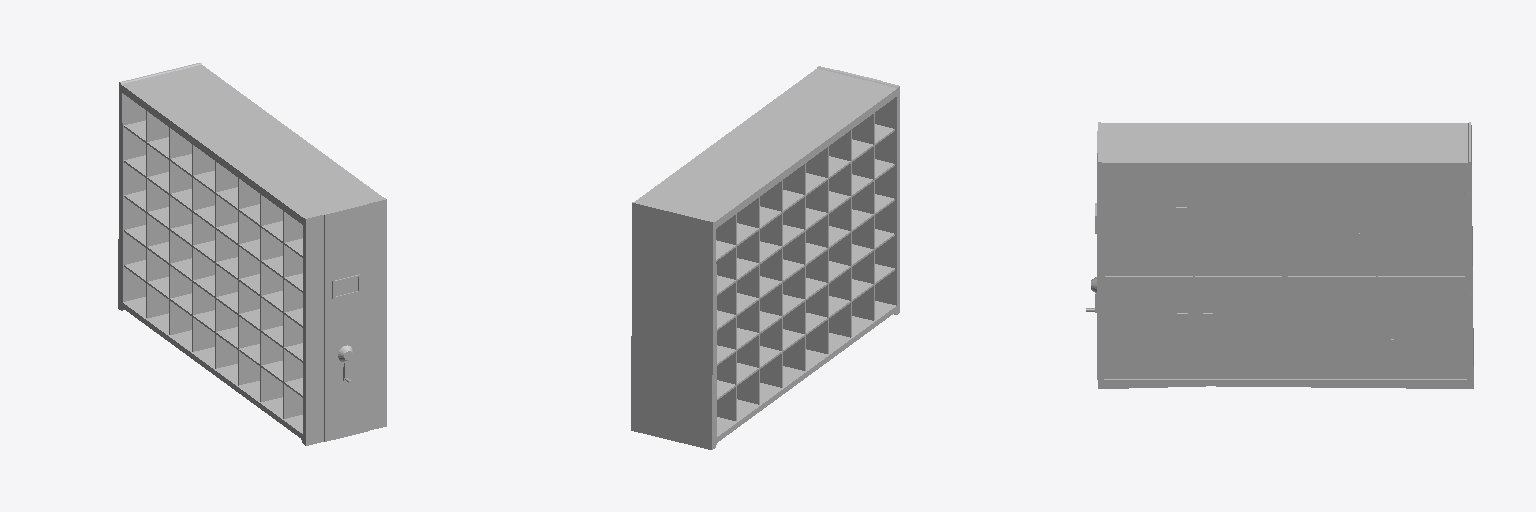
Rendered from mjjright6-8.obj.
3 views of the same model, side by side, from view 1: azimuth 30°, elevation 25°; view 2: azimuth 150°, elevation 25°; view 3: azimuth 270°, elevation 25° (orthographic).
Visible parts, largest first — view 1: mjj, Mesh02; view 2: mjj; view 3: mjj.
Boxes of the visible parts, x1,y1,x2,y2 form: mjj: [118, 63, 386, 445]; Mesh02: [332, 274, 360, 298]; mjj: [631, 66, 899, 449]; mjj: [1097, 122, 1473, 388].
Bounding box in the file's own units: 35.84 × 94.93 × 147.